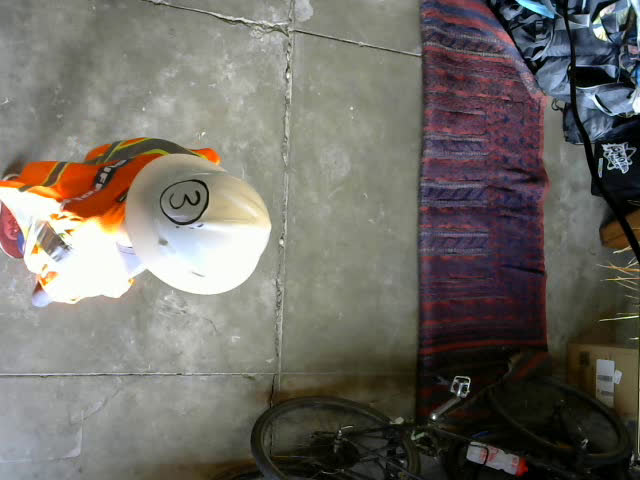three: (160, 178, 210, 226)
